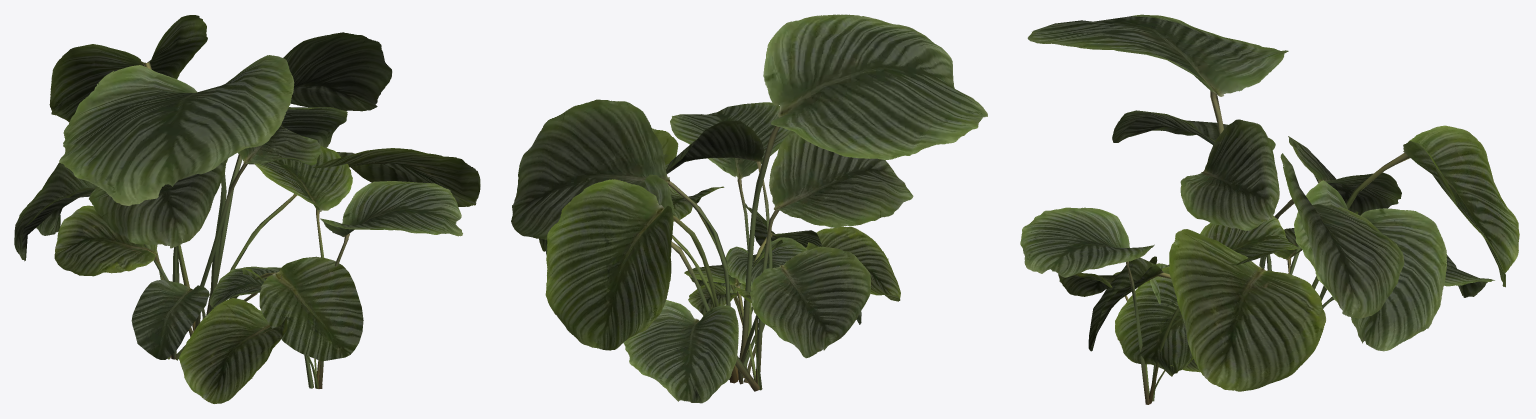
File: veg-plant-calathea-ff68e2052ad4.glb
3 views of the same model, side by side, from view 1: azimuth 30°, elevation 25°; view 2: azimuth 150°, elevation 25°; view 3: azimuth 270°, elevation 25° (orthographic). The views are drawn at different scales.
Visible parts, largest first — view 1: veg-plant-calathea; view 2: veg-plant-calathea; view 3: veg-plant-calathea.
Part boxes in pixels (<box>): veg-plant-calathea: <box>14,15,480,403</box>; veg-plant-calathea: <box>511,14,987,403</box>; veg-plant-calathea: <box>1020,14,1519,404</box>.
Size of the model in its own units: 0.7016 by 0.52 by 0.7089.
1 material, 1 textured.
